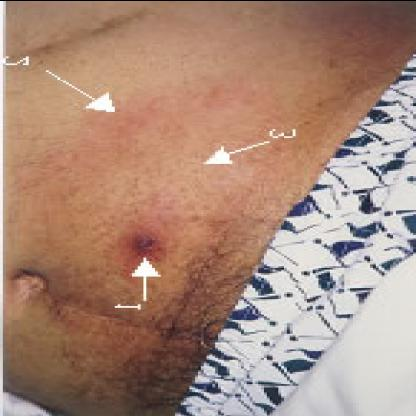Bed Bug: (2, 159, 92, 313), (220, 248, 273, 294), (154, 269, 212, 306), (334, 221, 364, 275), (146, 119, 188, 156)
